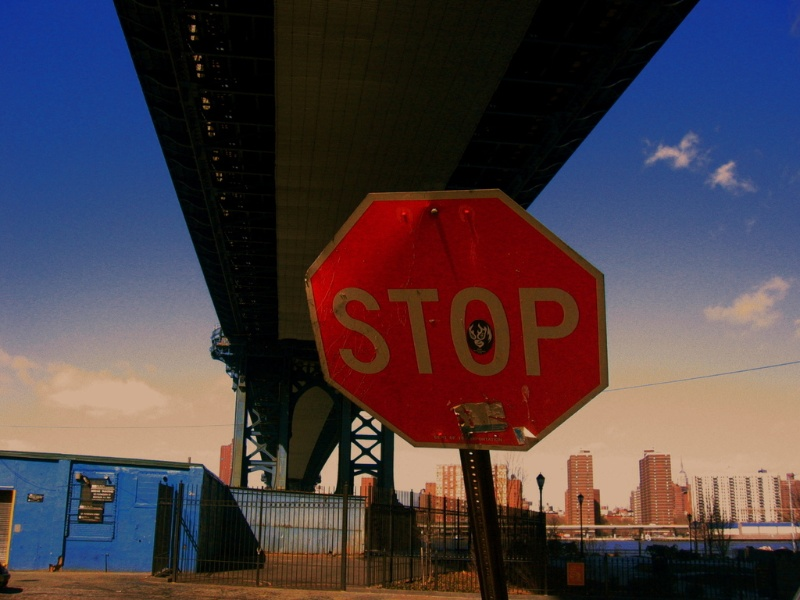stop: (297, 183, 620, 458)
